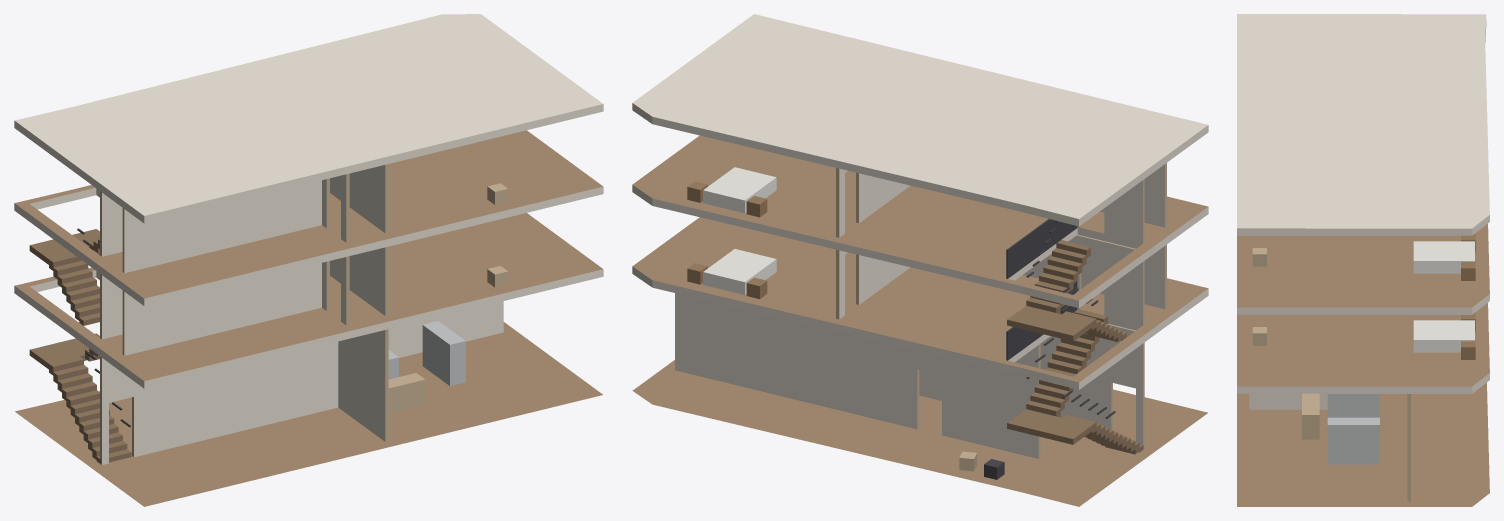
Rendered from interior.glb.
The picture shows the model from 3 angles, left to right: view 1: azimuth 30°, elevation 25°; view 2: azimuth 150°, elevation 25°; view 3: azimuth 270°, elevation 25°; orthographic projection. The views are drawn at different scales.
Visible parts, largest first — view 1: slabs, partitions, stair, coarse-s0; view 2: slabs, partitions, stair, coarse-s2, coarse-s1, coarse-s0; view 3: slabs, coarse-s0, coarse-s2, coarse-s1, partitions.
Boxes of the visible parts, <box> form: slabs: <box>14,14,603,506</box>; partitions: <box>100,164,503,464</box>; stair: <box>29,228,131,463</box>; coarse-s0: <box>388,321,465,413</box>; slabs: <box>632,14,1208,506</box>; partitions: <box>675,163,1166,458</box>; stair: <box>1006,219,1143,454</box>; coarse-s2: <box>687,167,776,217</box>; coarse-s1: <box>687,249,776,298</box>; coarse-s0: <box>959,451,1004,479</box>; slabs: <box>1237,14,1489,506</box>; coarse-s0: <box>1302,393,1379,464</box>; coarse-s2: <box>1252,234,1475,280</box>; coarse-s1: <box>1252,313,1475,359</box>; partitions: <box>1249,393,1410,501</box>.
Size of the model in its own units: 16.51 by 10.01 by 8.22.
